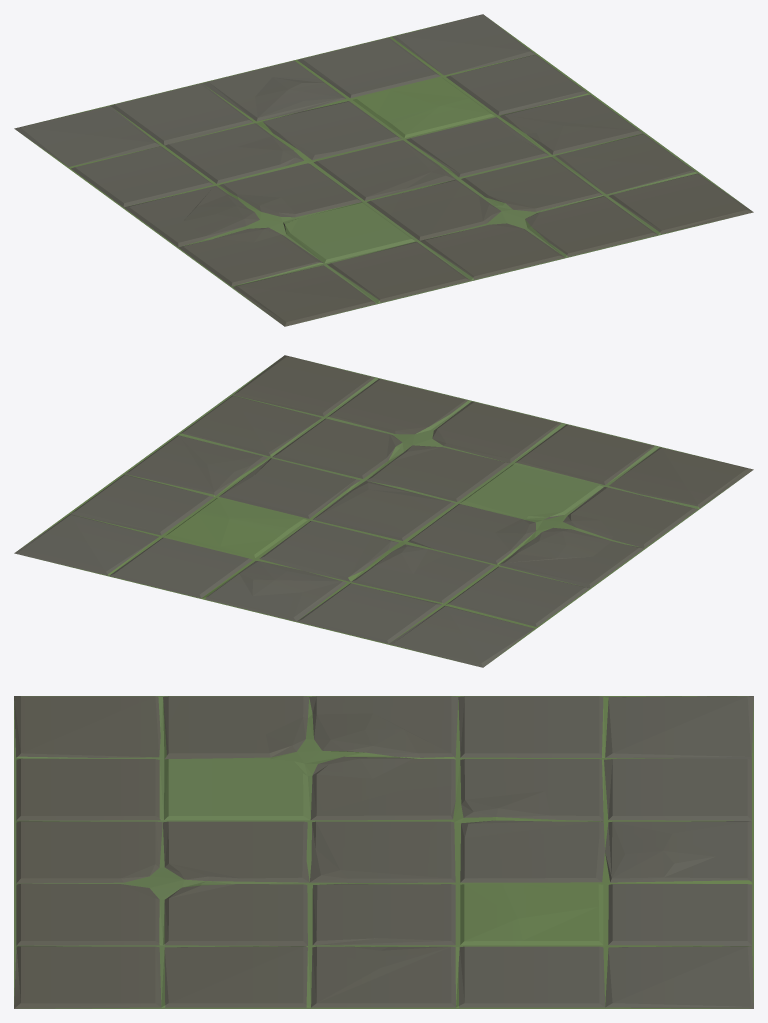
File: Ground_11.fbx
3 renders of one model, top to bottom at view 1: azimuth 30°, elevation 25°; view 2: azimuth 150°, elevation 25°; view 3: azimuth 270°, elevation 25°, orthographic. The views are drawn at different scales.
Visible parts, largest first — view 1: Ground_11; view 2: Ground_11; view 3: Ground_11.
Boxes of the visible parts, box(x1,y1,x2,y2) form: Ground_11: box(14, 14, 753, 326); Ground_11: box(14, 355, 753, 667); Ground_11: box(14, 696, 753, 1008).
Bounding box in the file's own units: 4 × 0.041 × 4.
